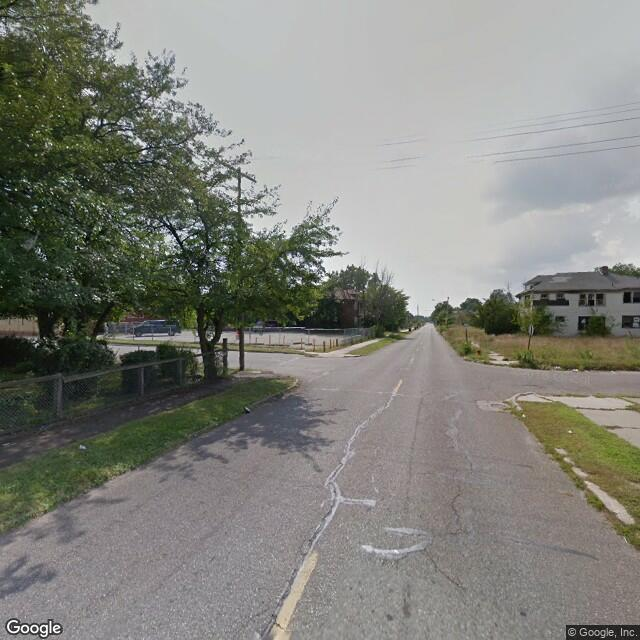litter: (242, 406, 251, 411), (78, 444, 85, 449), (520, 413, 526, 418), (567, 429, 571, 433)
